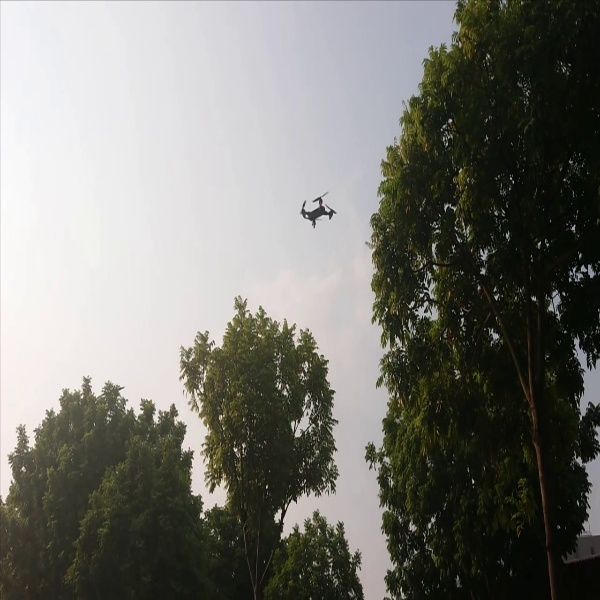drone: (292, 184, 341, 236)
